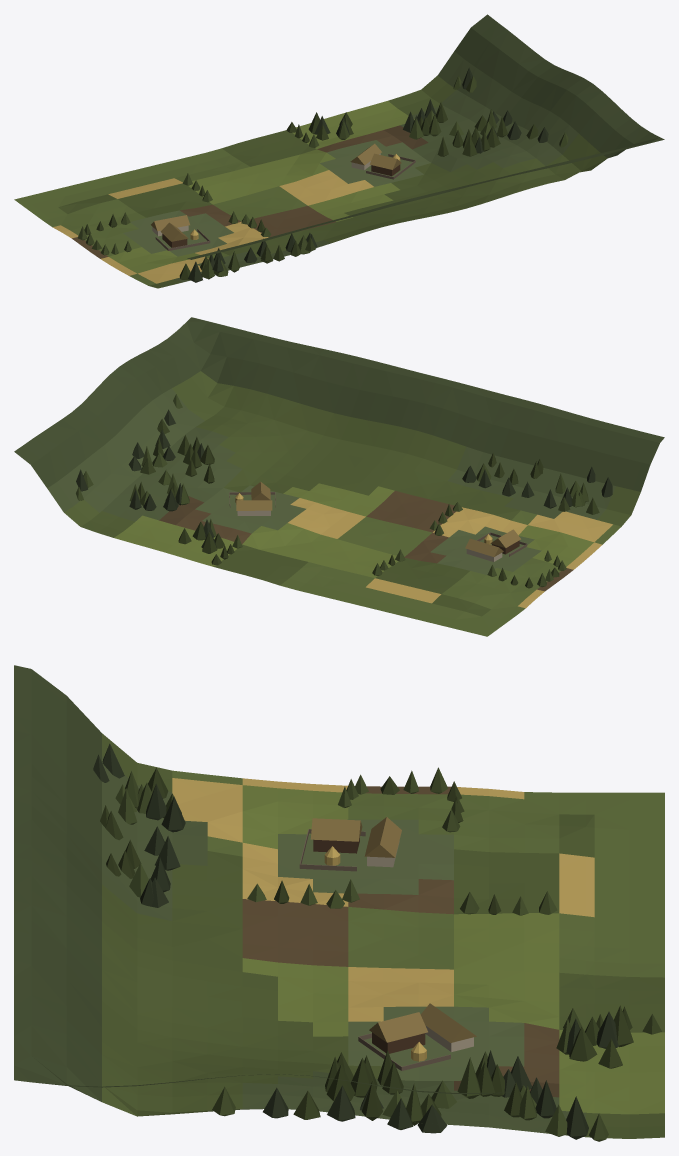
File: backdrop-south.glb
3 views of the same model, one above another, from view 1: azimuth 30°, elevation 25°; view 2: azimuth 150°, elevation 25°; view 3: azimuth 270°, elevation 25° (orthographic). The views are drawn at different scales.
Visible parts, largest first — view 1: backdrop-south; view 2: backdrop-south; view 3: backdrop-south.
Part boxes in pixels (x1,y1,x2,y2): backdrop-south: [14, 14, 664, 288]; backdrop-south: [14, 317, 664, 636]; backdrop-south: [14, 665, 664, 1141].
Size of the model in its own units: 228 by 35.68 by 148.
Materials: 1 (1 with a texture image).
